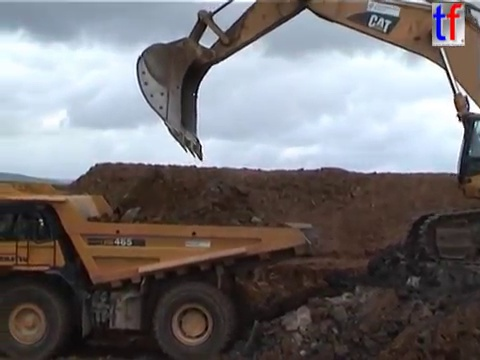excavator: (131, 1, 480, 272)
truck: (1, 176, 317, 360)
